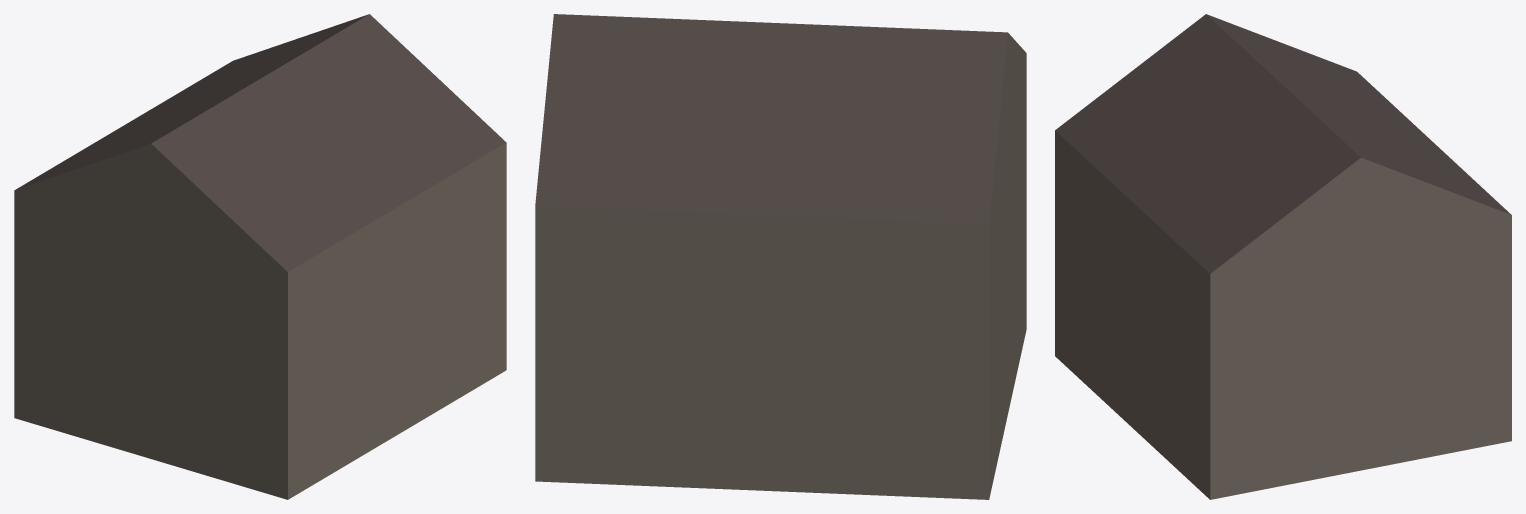
The picture shows the model from 3 angles, left to right: view 1: azimuth 30°, elevation 25°; view 2: azimuth 150°, elevation 25°; view 3: azimuth 270°, elevation 25°; orthographic projection. The views are drawn at different scales.
Visible parts, largest first — view 1: HP-w859088481; view 2: HP-w859088481; view 3: HP-w859088481.
Boxes of the visible parts, box(x1,y1,x2,y2) form: HP-w859088481: box(14, 14, 506, 499); HP-w859088481: box(535, 14, 1026, 499); HP-w859088481: box(1055, 14, 1511, 499).
Size of the model in its own units: 17.28 by 12.46 by 16.49.
